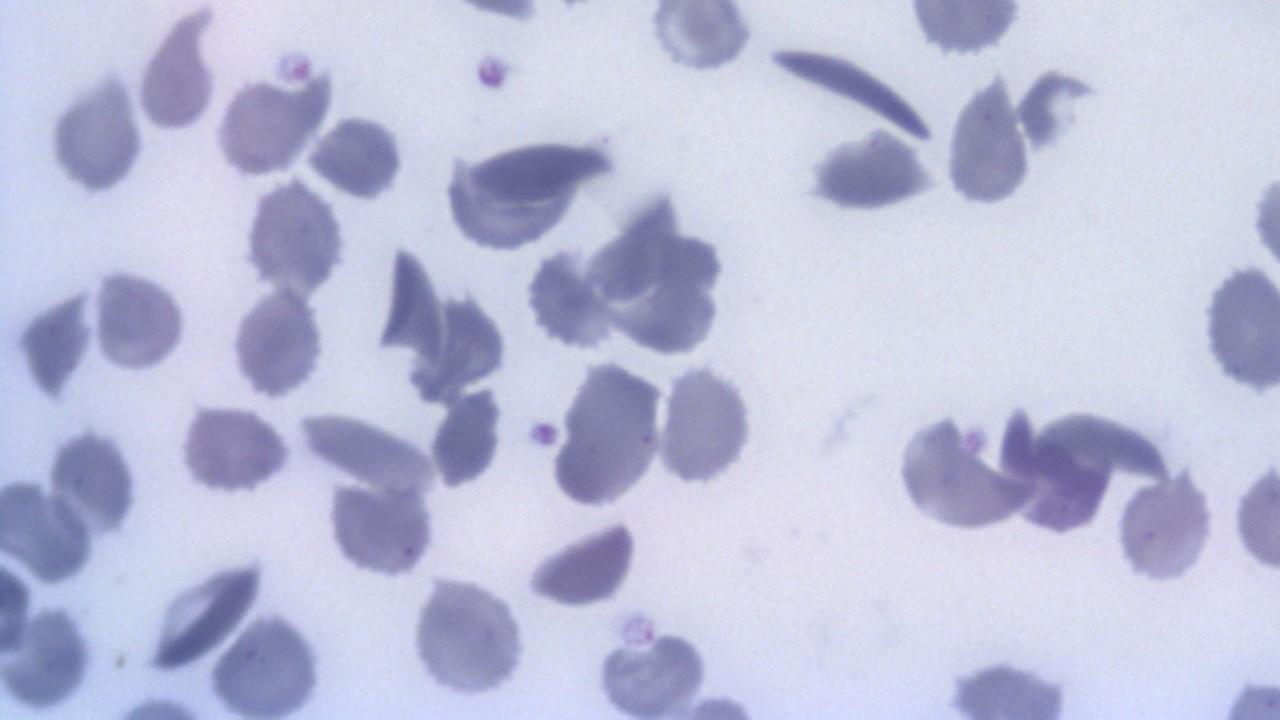Platelets: (798, 128, 942, 219), (520, 518, 644, 610), (430, 387, 511, 490), (1014, 68, 1098, 157), (1250, 139, 1280, 287), (464, 46, 524, 94), (450, 0, 544, 25), (522, 415, 564, 456)
RBC: (542, 356, 668, 512), (43, 61, 148, 200), (654, 359, 762, 491), (1112, 467, 1218, 588), (322, 474, 437, 584), (43, 423, 146, 544), (225, 286, 331, 400), (175, 399, 297, 498), (89, 262, 193, 376), (0, 598, 100, 714), (212, 72, 317, 180), (2, 475, 97, 588), (135, 8, 216, 137), (304, 110, 410, 202), (1231, 456, 1279, 578)
WBC: (521, 178, 736, 364), (432, 132, 614, 257), (541, 352, 671, 515), (404, 572, 534, 702), (654, 352, 768, 494), (44, 58, 152, 200), (214, 60, 334, 179), (243, 176, 353, 302), (204, 613, 334, 718), (940, 67, 1034, 211), (38, 426, 148, 548), (89, 259, 196, 382), (802, 124, 940, 216), (176, 397, 300, 499), (226, 284, 335, 400), (1198, 257, 1280, 400), (641, 2, 759, 77), (901, 0, 1031, 59), (1249, 134, 1280, 296)
